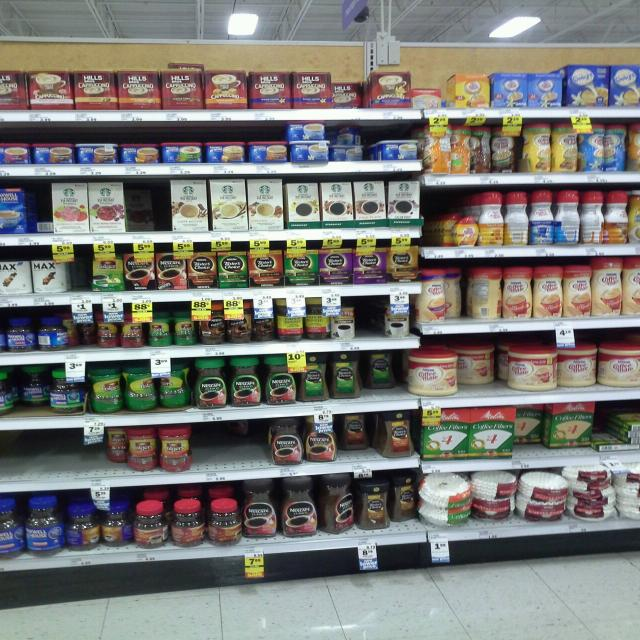unorganised: (514, 401, 640, 458), (456, 347, 602, 395), (315, 473, 421, 536), (134, 493, 242, 550), (299, 351, 402, 401), (427, 123, 523, 174), (68, 501, 134, 551), (444, 269, 503, 323), (557, 188, 605, 246), (123, 367, 185, 411), (67, 315, 147, 347), (578, 123, 628, 173), (332, 415, 383, 462), (325, 123, 377, 161), (13, 367, 53, 413), (330, 74, 374, 109), (505, 192, 532, 248), (98, 430, 132, 472), (414, 75, 455, 109), (25, 185, 53, 234)
